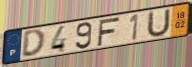1: (129, 13, 140, 42)
4: (48, 24, 69, 54)
9: (75, 22, 94, 50)
D: (20, 28, 47, 58)
F: (96, 16, 122, 47)
U: (145, 7, 172, 39)
